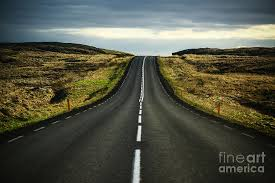strada: (1, 56, 275, 182)
